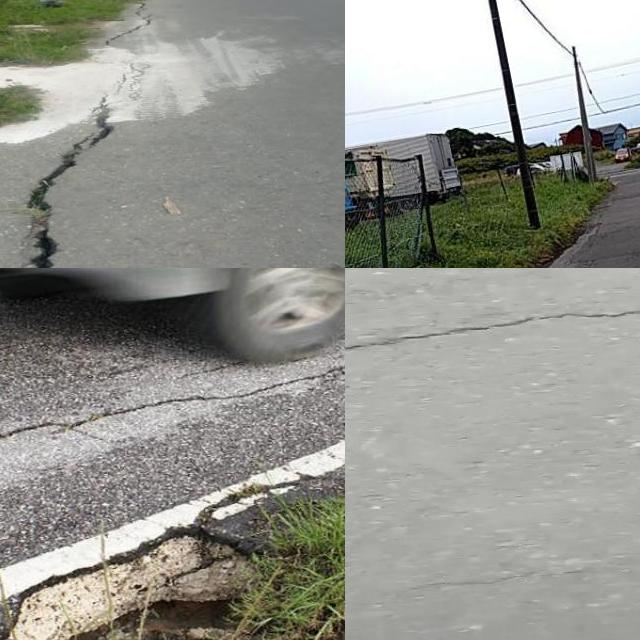Melintang: (345, 294, 640, 361)
Memanjang: (0, 13, 173, 268)
Pinggir: (0, 499, 345, 640)
